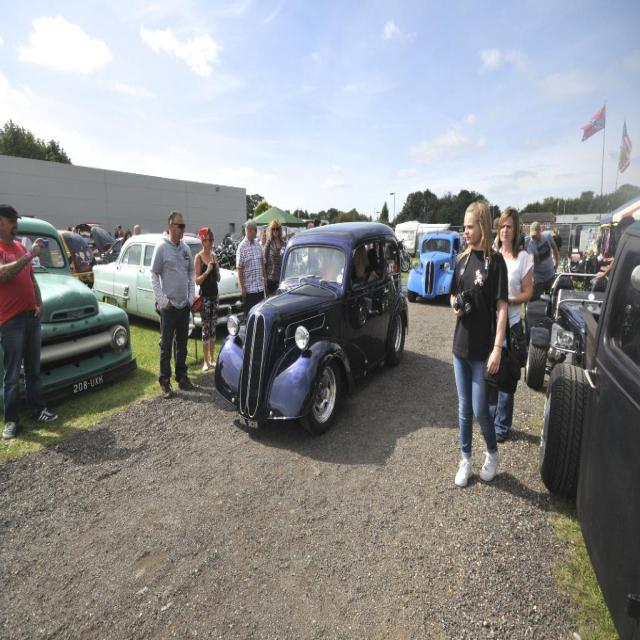car: (222, 218, 406, 434)
